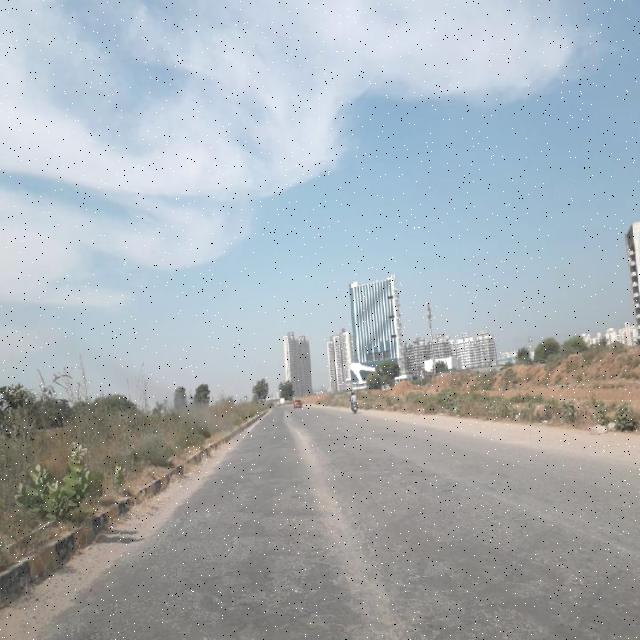D00: (285, 415, 417, 637)
D20: (397, 484, 610, 630)
